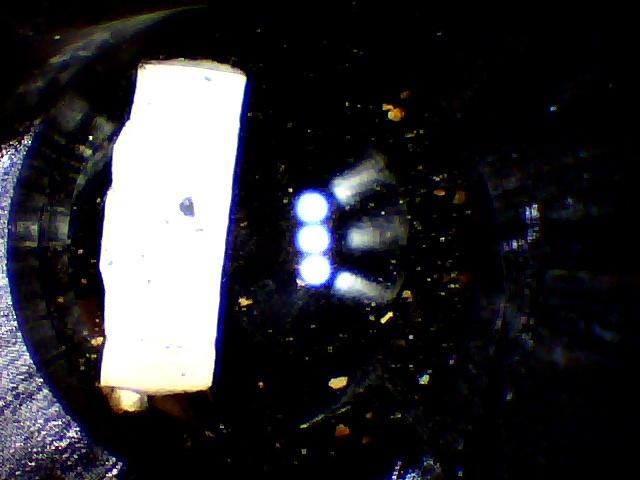megot: (88, 54, 255, 406)
